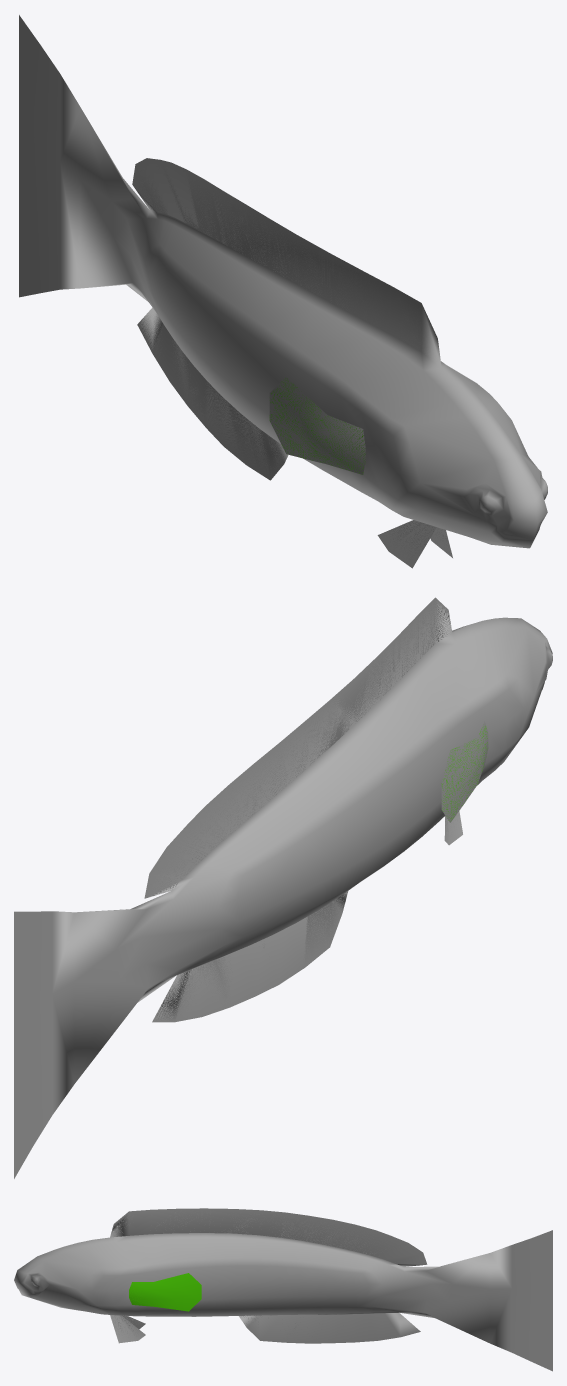
Rendered from Malachantidae_A_S.fbx.
The picture shows the model from 3 angles, top to bottom: view 1: azimuth 30°, elevation 25°; view 2: azimuth 150°, elevation 25°; view 3: azimuth 270°, elevation 25°; orthographic projection. The views are drawn at different scales.
Visible parts, largest first — view 1: Malachantidae_A_S_Mesh; view 2: Malachantidae_A_S_Mesh; view 3: Malachantidae_A_S_Mesh.
Boxes of the visible parts, x1=… form: Malachantidae_A_S_Mesh: x1=19, y1=15, x2=547, y2=568; Malachantidae_A_S_Mesh: x1=14, y1=597, x2=552, y2=1178; Malachantidae_A_S_Mesh: x1=14, y1=1208, x2=552, y2=1371.
Bounding box in the file's own units: 0.00151 × 0.00322 × 0.0101.
